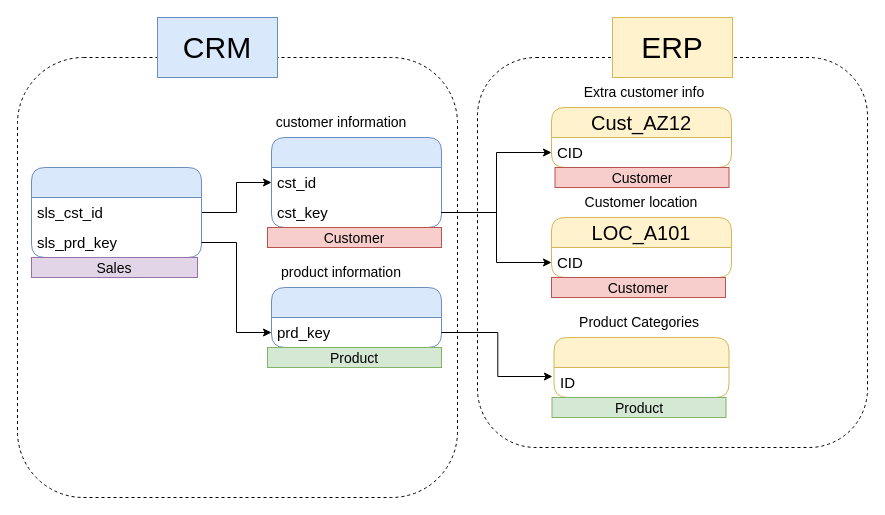
Image size: 885x515. Some labels were removed from this diagram. Here are the shapes that lost their labels. From the top down, the box of each, then its label:
(270, 136, 442, 228): cust_info
(30, 166, 202, 258): sales_details
(270, 286, 442, 348): prd_info
(553, 336, 729, 398): PX_CAT_G1V2
